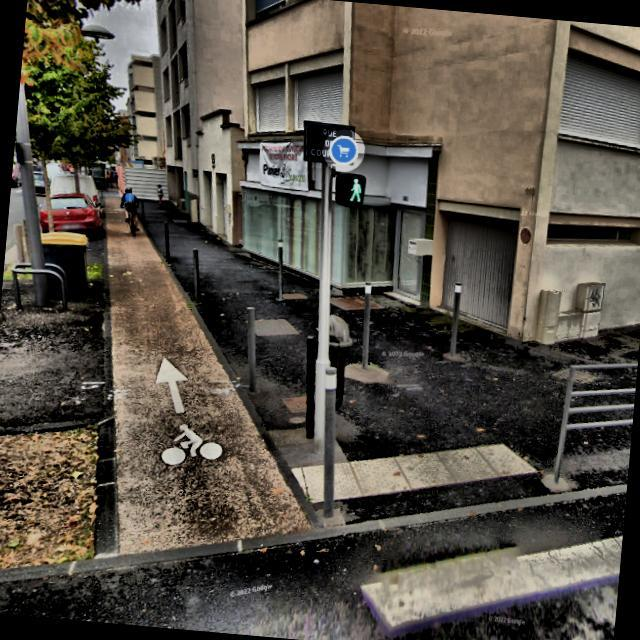green_light: (344, 173, 364, 204)
